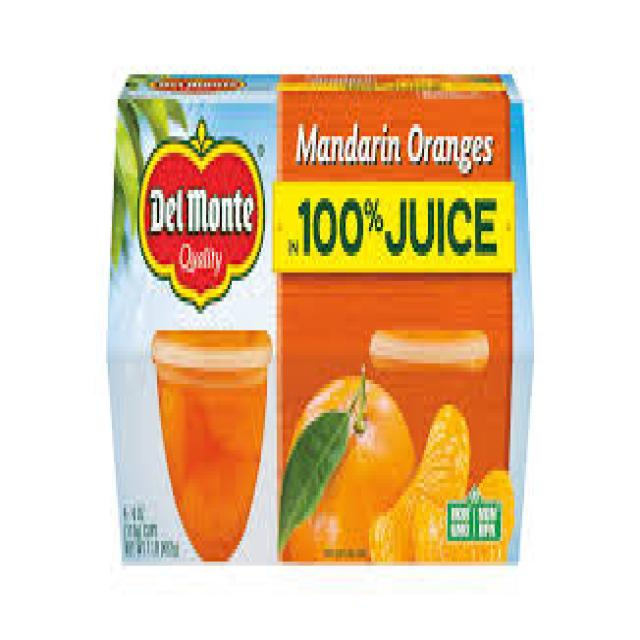orange: (284, 376, 412, 577)
